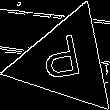P_S: (42, 33, 90, 89)
